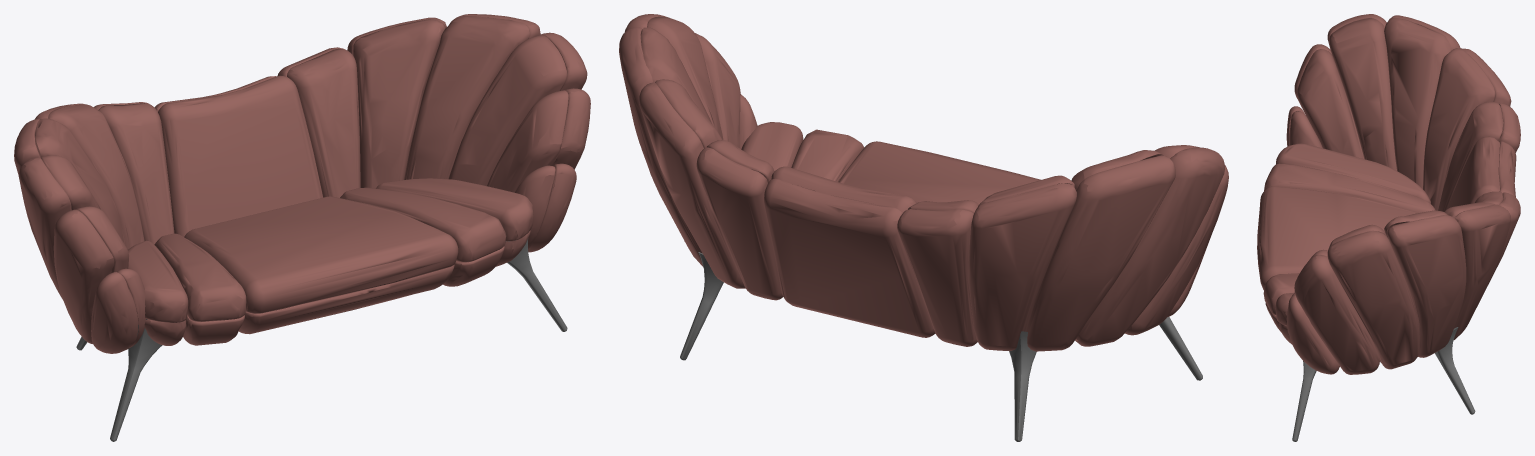
File: amasunzu-sofa.glb
3 views of the same model, side by side, from view 1: azimuth 30°, elevation 25°; view 2: azimuth 150°, elevation 25°; view 3: azimuth 270°, elevation 25° (orthographic). The views are drawn at different scales.
Visible parts, largest first — view 1: Small_Sofa.3; view 2: Small_Sofa.3; view 3: Small_Sofa.3.
Boxes of the visible parts, box(x1,y1,x2,y2) form: Small_Sofa.3: box(14, 14, 590, 441); Small_Sofa.3: box(619, 14, 1228, 441); Small_Sofa.3: box(1257, 14, 1520, 441).
Size of the model in its own units: 2.08 by 0.9502 by 0.999.
